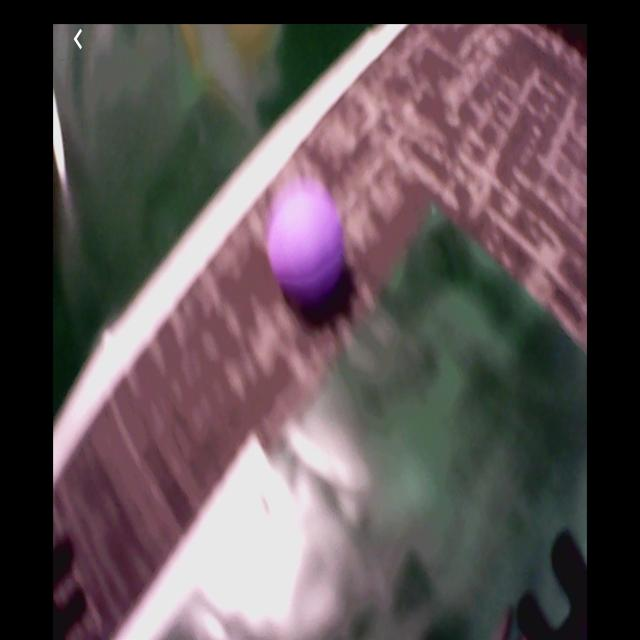ball: (269, 194, 348, 300)
